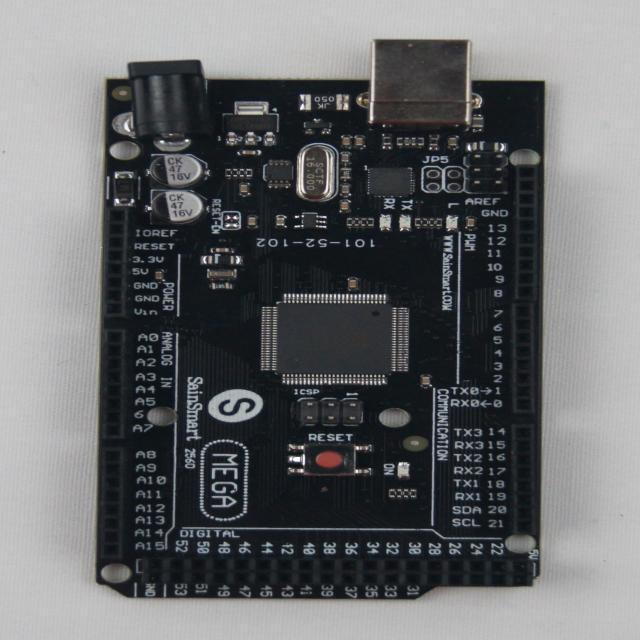Arduino Mega 2560 -Black-: (96, 42, 545, 600)
